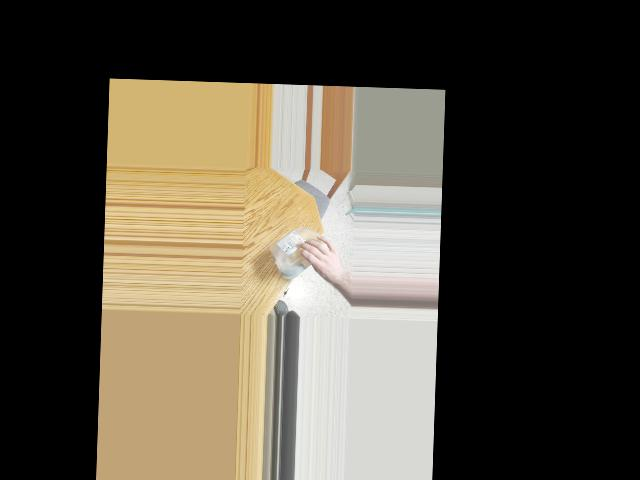cheese: (267, 223, 335, 278)
